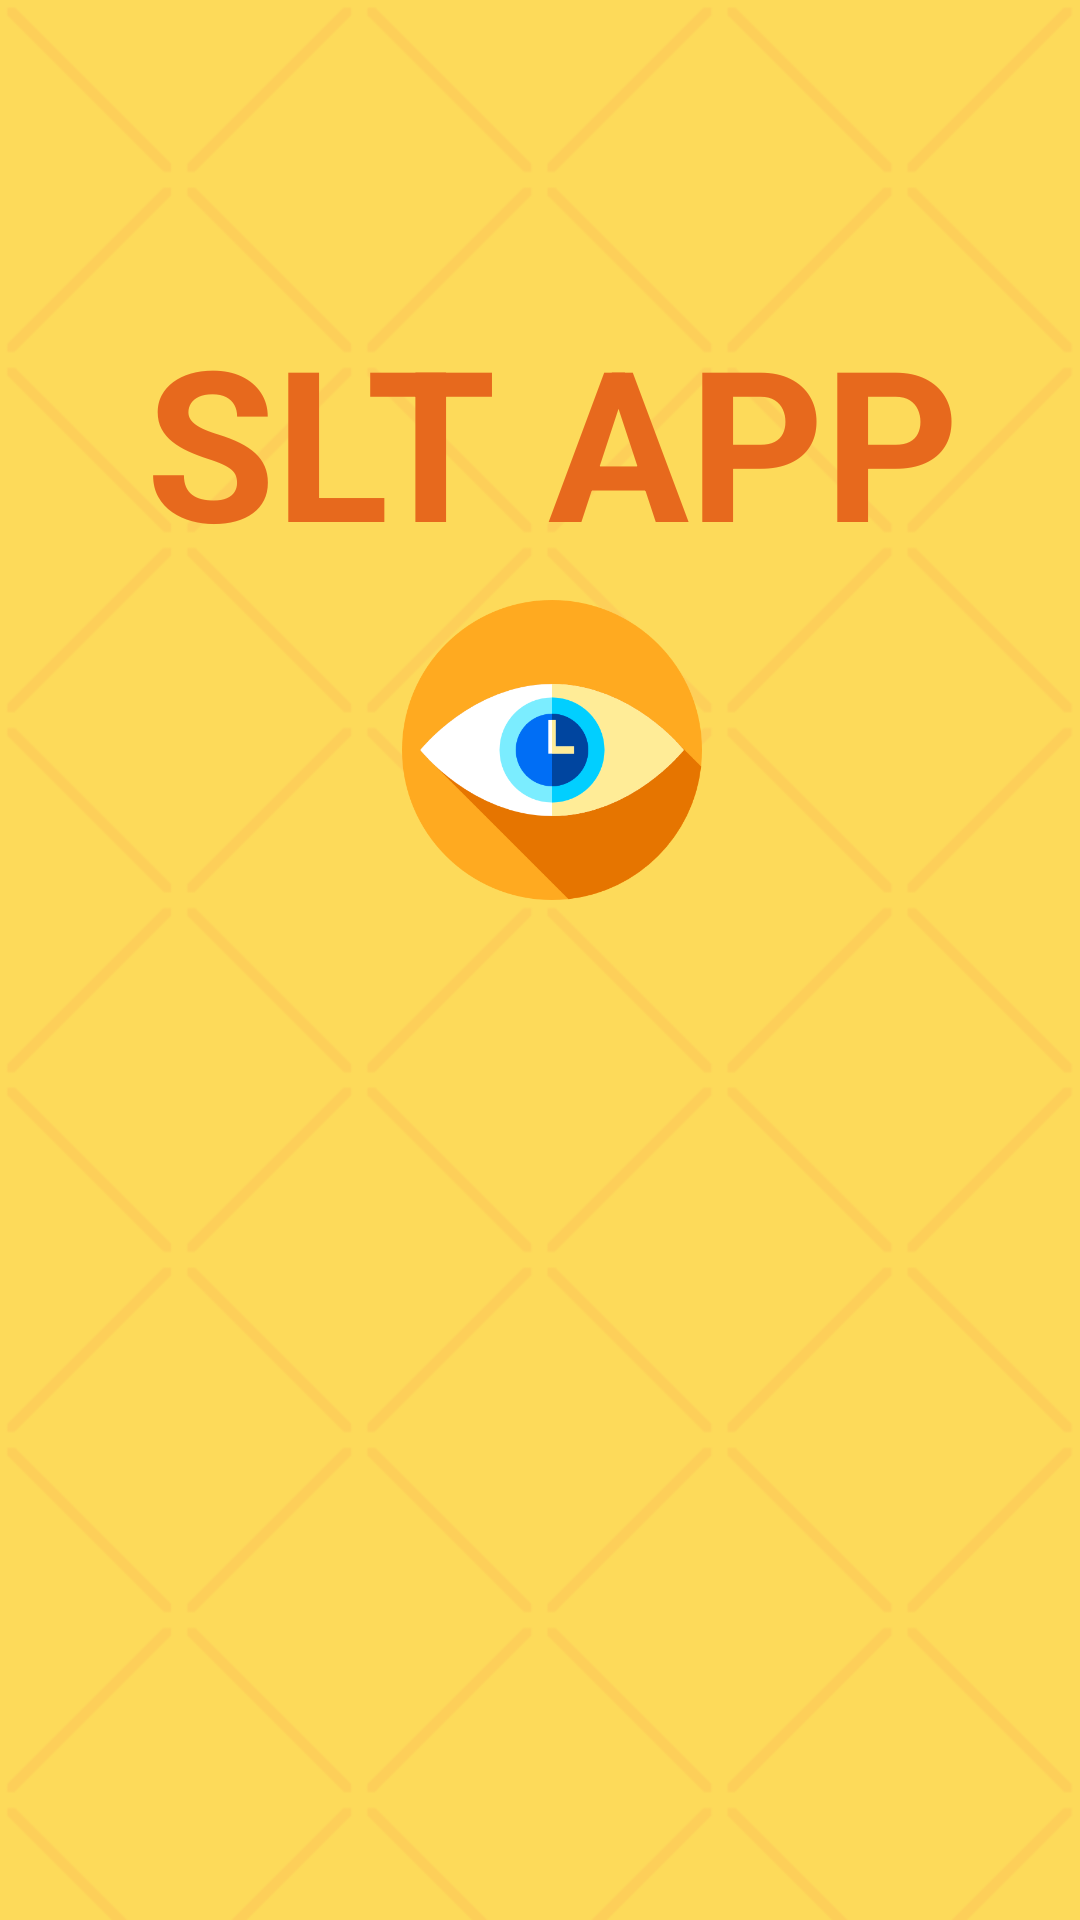

Where icons sit on this 1080px×1920px app screen, as box=[x1, y1, x2, y2]:
eye: box=[402, 600, 702, 900]
